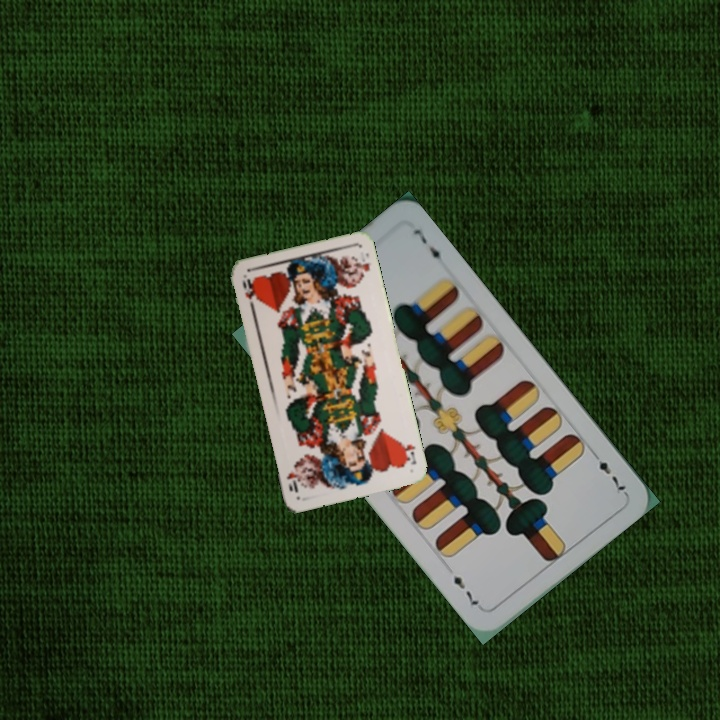E7: (587, 447, 629, 497)
HO: (238, 274, 259, 313), (397, 437, 419, 467)
